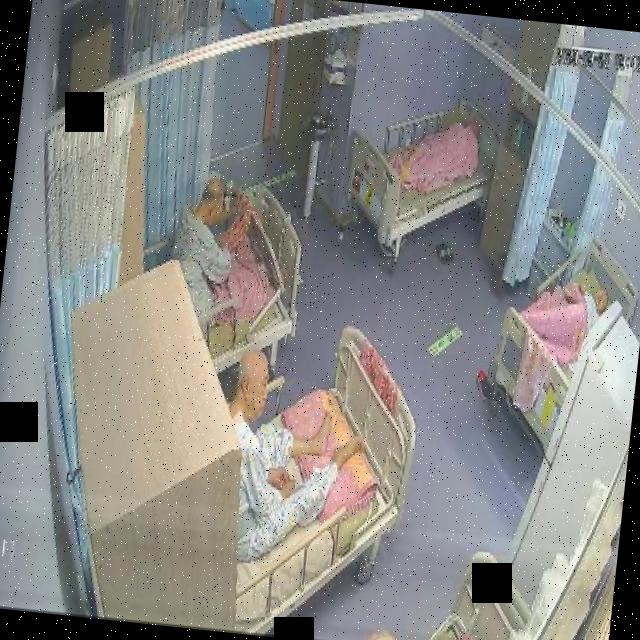bed: (220, 318, 426, 640), (481, 225, 640, 462), (164, 180, 308, 384), (341, 87, 496, 256)
lie: (518, 257, 616, 380)
patient: (212, 348, 369, 596), (168, 177, 298, 325), (574, 282, 613, 336)
sit: (215, 351, 371, 594), (168, 176, 297, 328)
